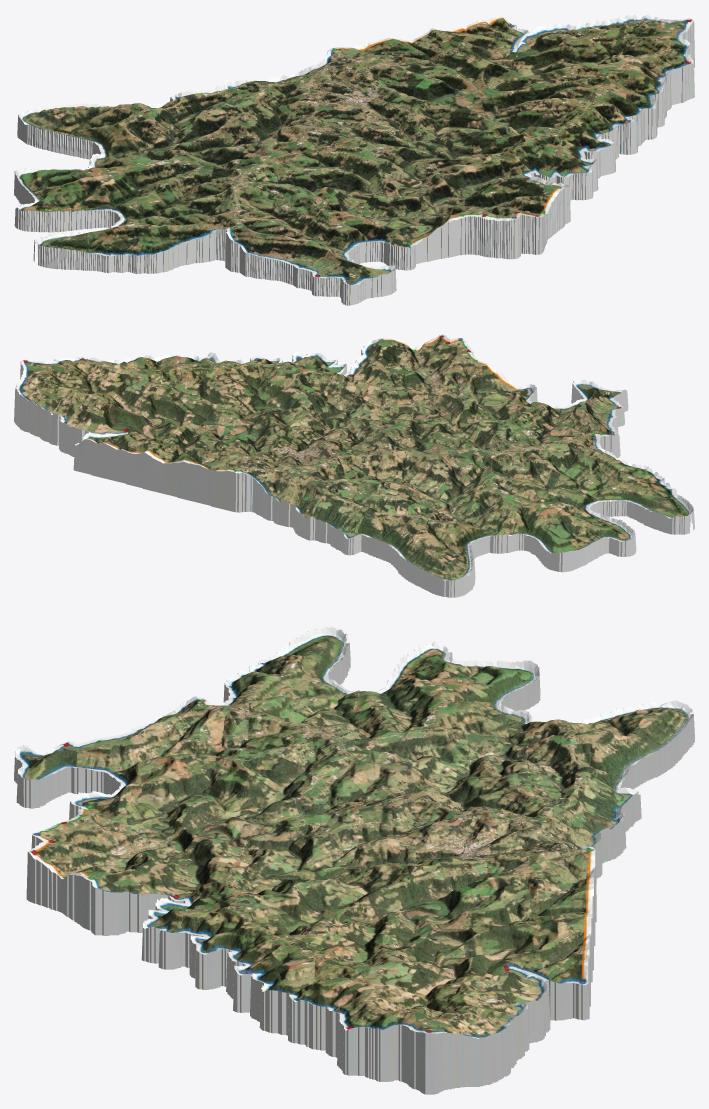
The picture shows the model from 3 angles, top to bottom: view 1: azimuth 30°, elevation 25°; view 2: azimuth 150°, elevation 25°; view 3: azimuth 270°, elevation 25°; orthographic projection. The views are drawn at different scales.
Size of the model in its own units: 1 by 0.0642 by 0.6528.
Materials: 1 (1 with a texture image).
